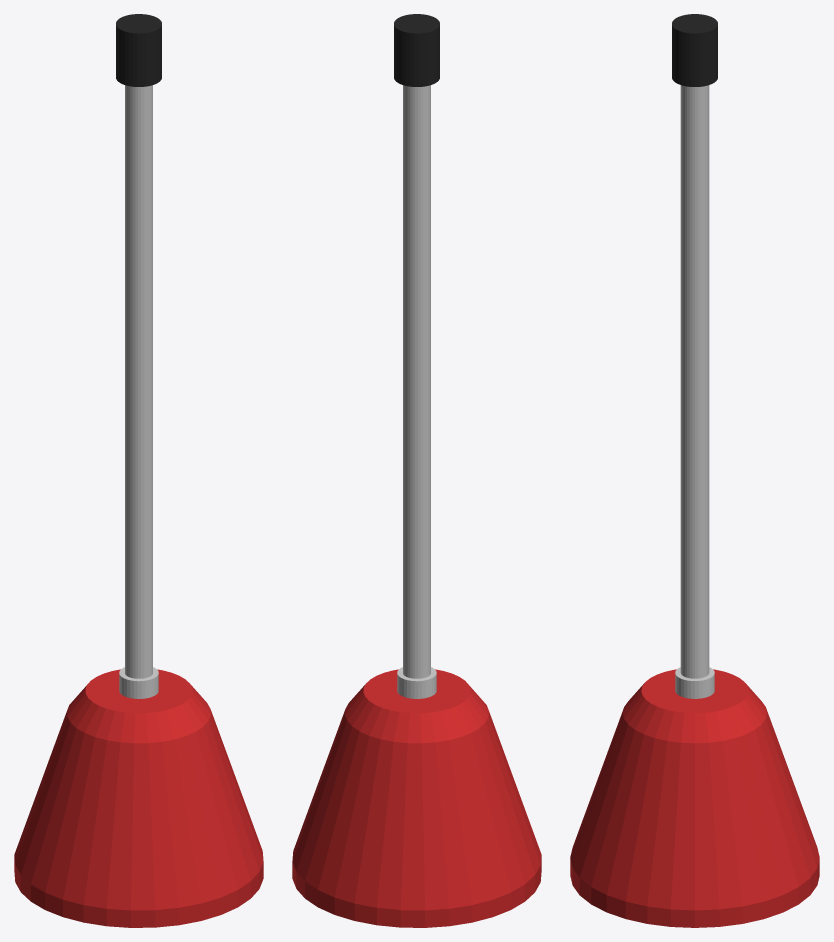
File: toilet pump.fbx
3 views of the same model, side by side, from view 1: azimuth 30°, elevation 25°; view 2: azimuth 150°, elevation 25°; view 3: azimuth 270°, elevation 25° (orthographic).
Parts seen in each view (by area): view 1: Cylinder; view 2: Cylinder; view 3: Cylinder.
Boxes of the visible parts, x1=… form: Cylinder: x1=14, y1=14, x2=263, y2=927; Cylinder: x1=292, y1=14, x2=541, y2=927; Cylinder: x1=570, y1=14, x2=819, y2=927.
Bounding box in the file's own units: 218 × 819 × 218.
